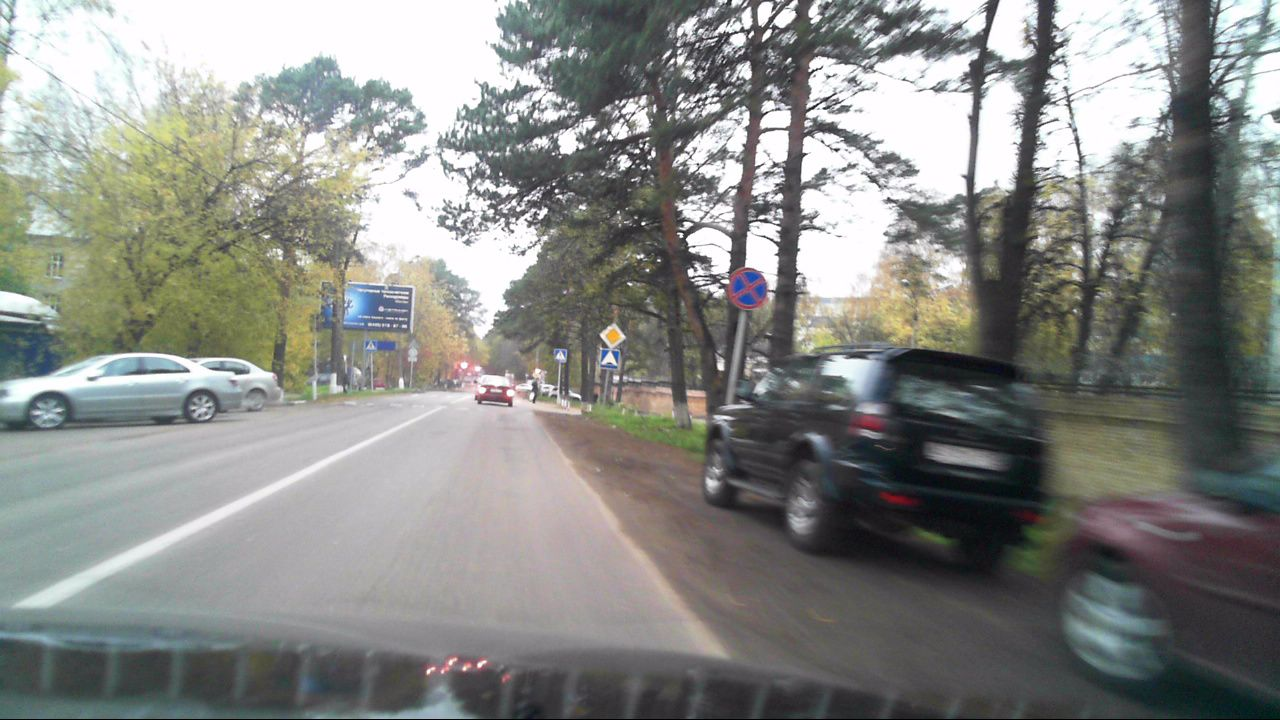No Parking: (727, 267, 767, 310)
